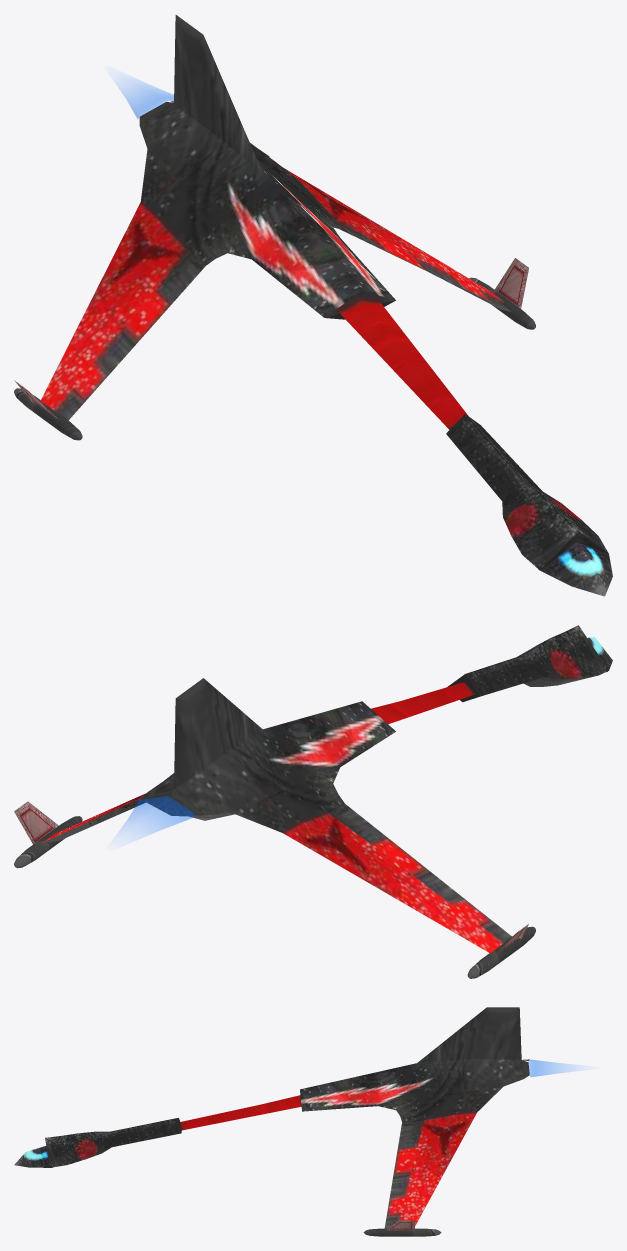
The model's file is kestrel_pirate.gltf.
3 renders of one model, top to bottom at view 1: azimuth 30°, elevation 25°; view 2: azimuth 150°, elevation 25°; view 3: azimuth 270°, elevation 25°, orthographic. The views are drawn at different scales.
Visible parts, largest first — view 1: base_glow, glow; view 2: base_glow, glow; view 3: base_glow, glow.
Part boxes in pixels (x1,y1,x2,y2): base_glow: (14,15,612,596); glow: (118,79,173,118); base_glow: (14,625,612,978); glow: (119,796,194,837); base_glow: (14,1007,529,1236); glow: (529,1059,574,1076).
Bounding box in the file's own units: 4.93 × 2.62 × 8.67.
Materials: 2 (2 with a texture image).
